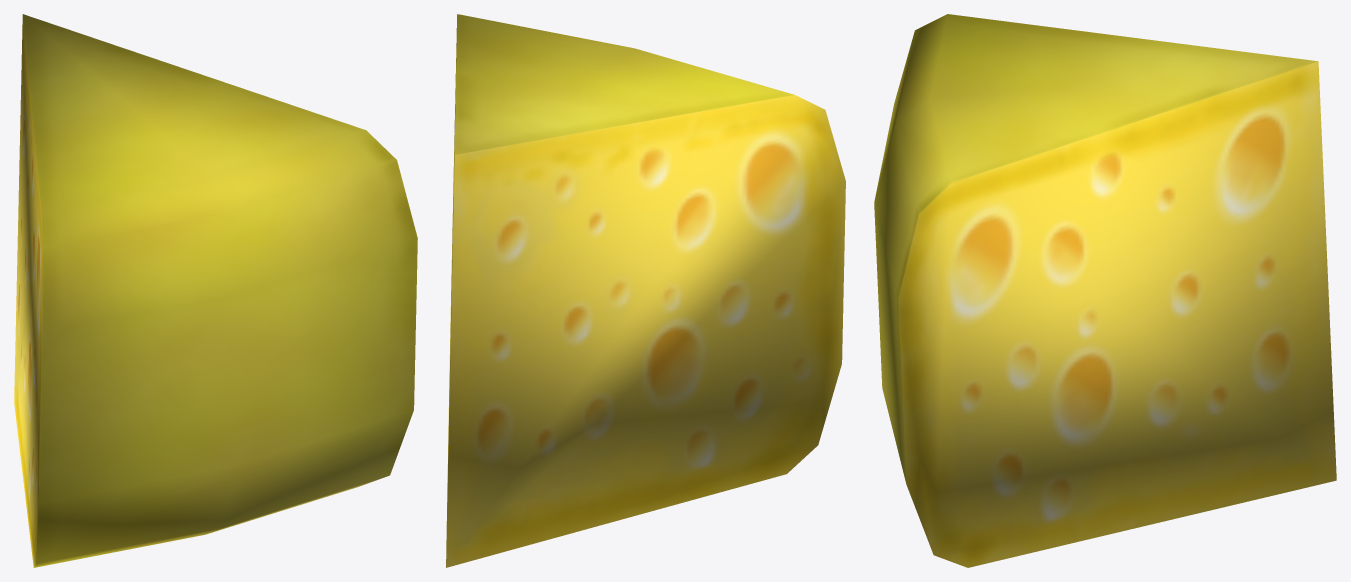
File: cheese.gltf
3 renders of one model, left to right at view 1: azimuth 30°, elevation 25°; view 2: azimuth 150°, elevation 25°; view 3: azimuth 270°, elevation 25°, orthographic. The views are drawn at different scales.
Visible parts, largest first — view 1: uploads_files_258230_cheese; view 2: uploads_files_258230_cheese; view 3: uploads_files_258230_cheese.
Boxes of the visible parts, bbox=[...] form: uploads_files_258230_cheese: bbox=[14, 14, 417, 567]; uploads_files_258230_cheese: bbox=[446, 14, 845, 567]; uploads_files_258230_cheese: bbox=[874, 14, 1336, 567].
Bounding box in the file's own units: 1 × 1 × 1.
1 material, 1 textured.
